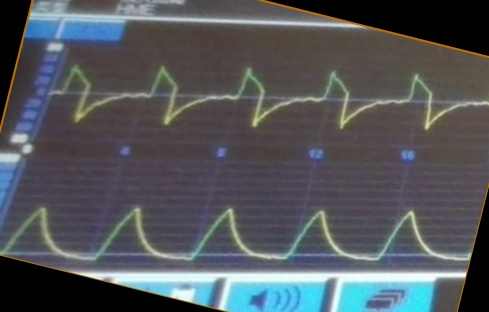Normal Flow: (49, 60, 488, 139)
Normal Volume: (2, 198, 468, 267)
